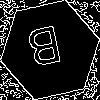B: (25, 25, 66, 77)
